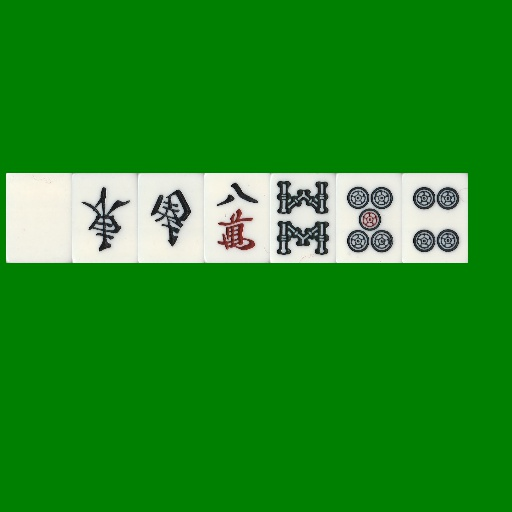4p: (402, 173, 468, 263)
5p: (336, 173, 402, 263)
8m: (204, 173, 270, 263)
8s: (270, 173, 336, 263)
east: (72, 173, 138, 263)
south: (138, 173, 204, 263)
white: (6, 173, 72, 263)
